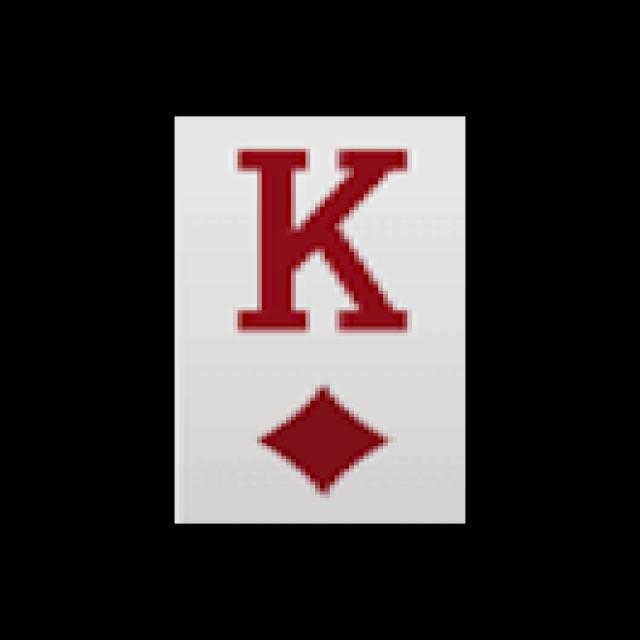KD: (203, 138, 439, 508)
